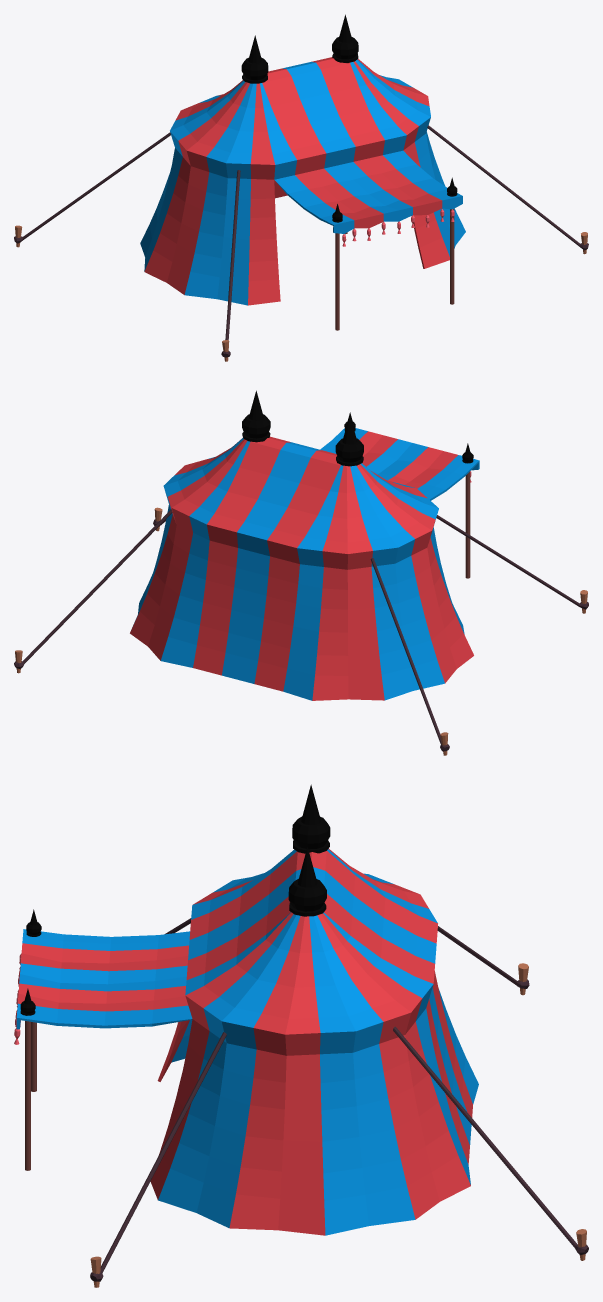
File: Teent_03.fbx
3 renders of one model, top to bottom at view 1: azimuth 30°, elevation 25°; view 2: azimuth 150°, elevation 25°; view 3: azimuth 270°, elevation 25°, orthographic. The views are drawn at different scales.
Visible parts, largest first — view 1: Teent_03; view 2: Teent_03; view 3: Teent_03.
Part boxes in pixels (box(x1,y1,x2,y2)): Teent_03: box(14, 14, 588, 361); Teent_03: box(14, 390, 588, 755); Teent_03: box(14, 784, 588, 1287).
Size of the model in its own units: 1145 by 581 by 932.
